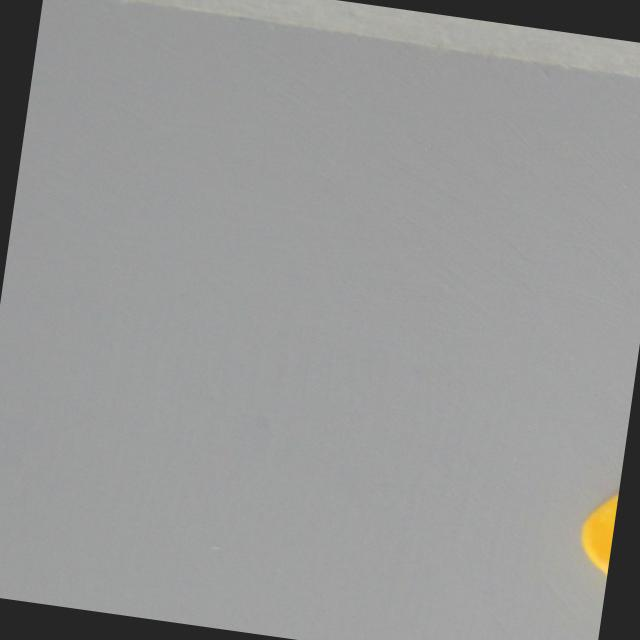punto_negro: (571, 478, 620, 593)
